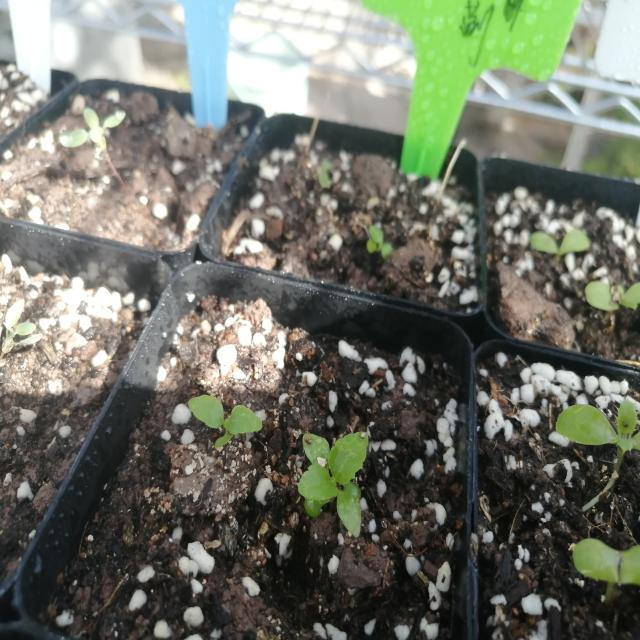billygoat_weed: (295, 421, 383, 536), (184, 375, 258, 456)
